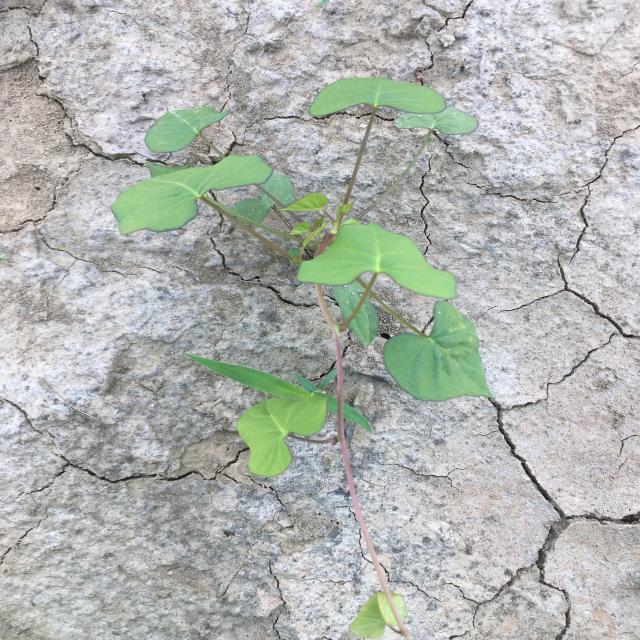MorningGlory: (111, 77, 497, 640)
